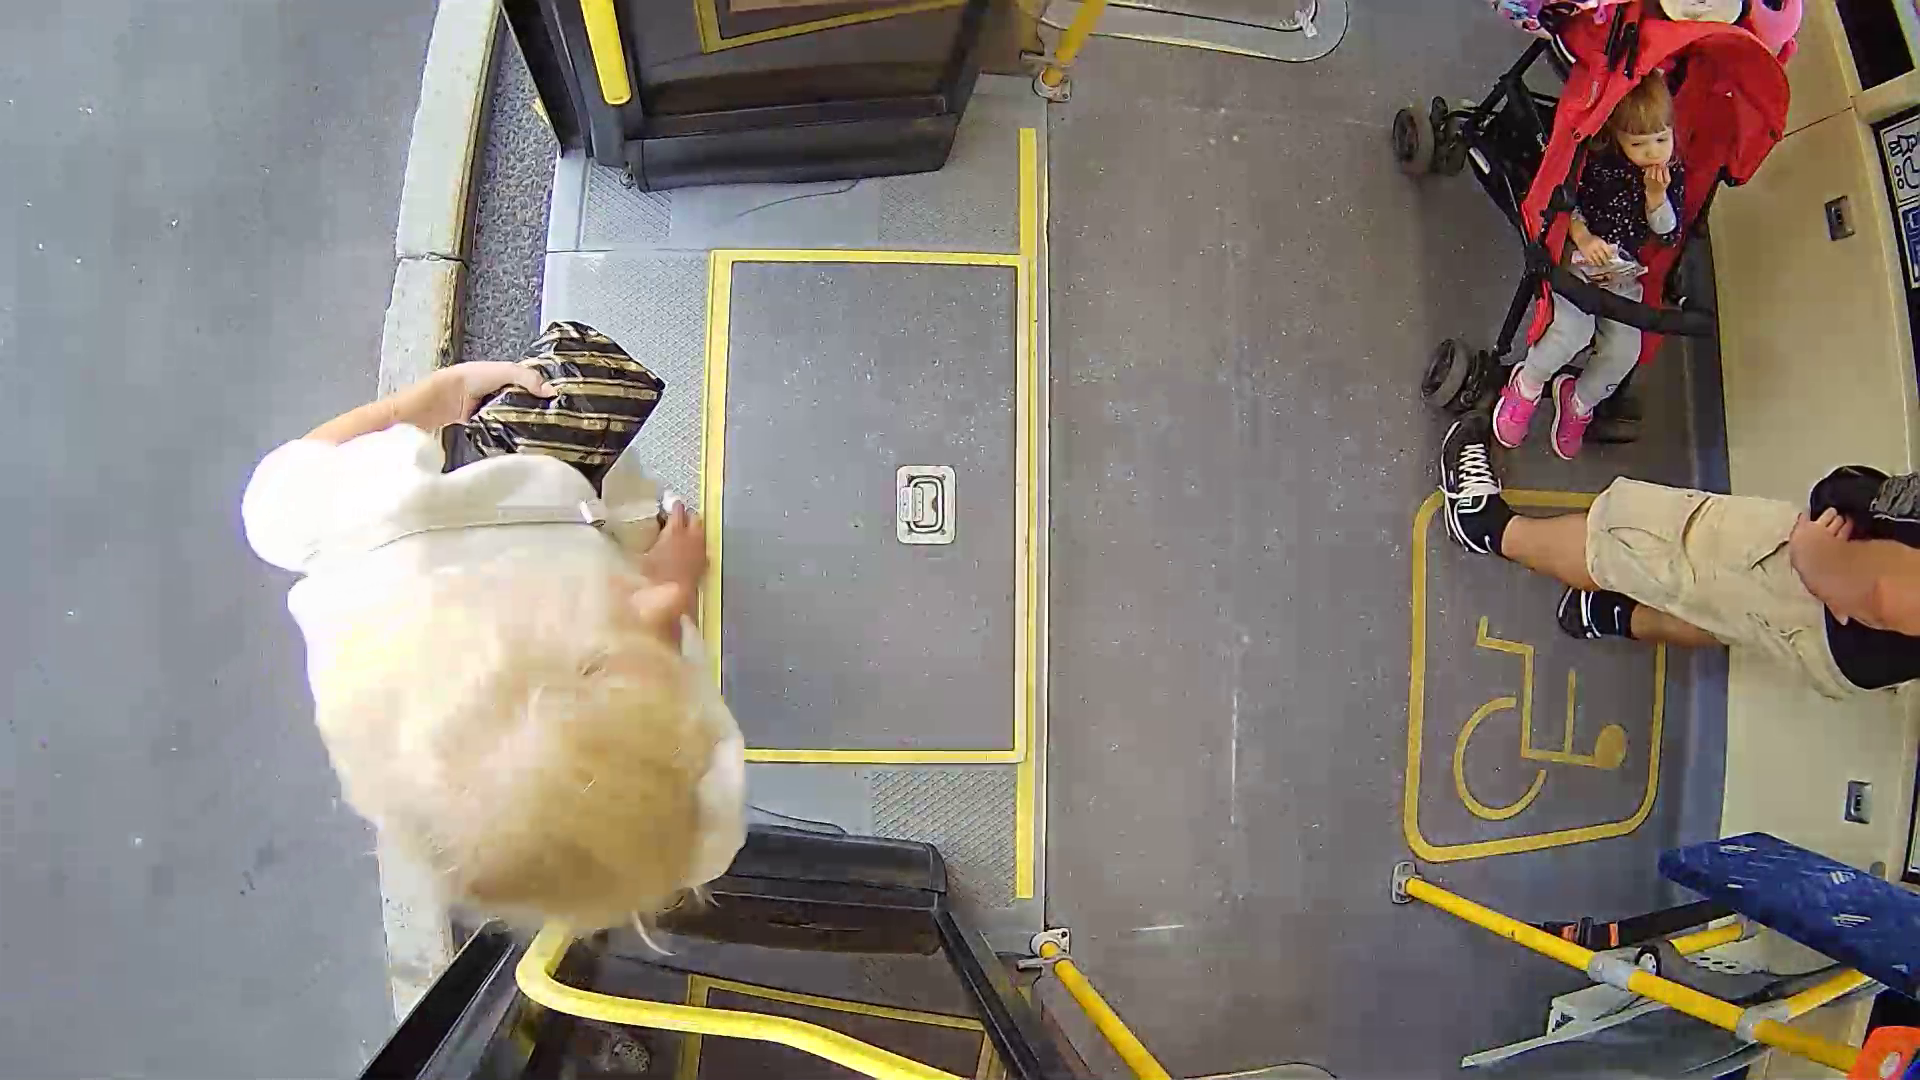person: (234, 320, 846, 924)
